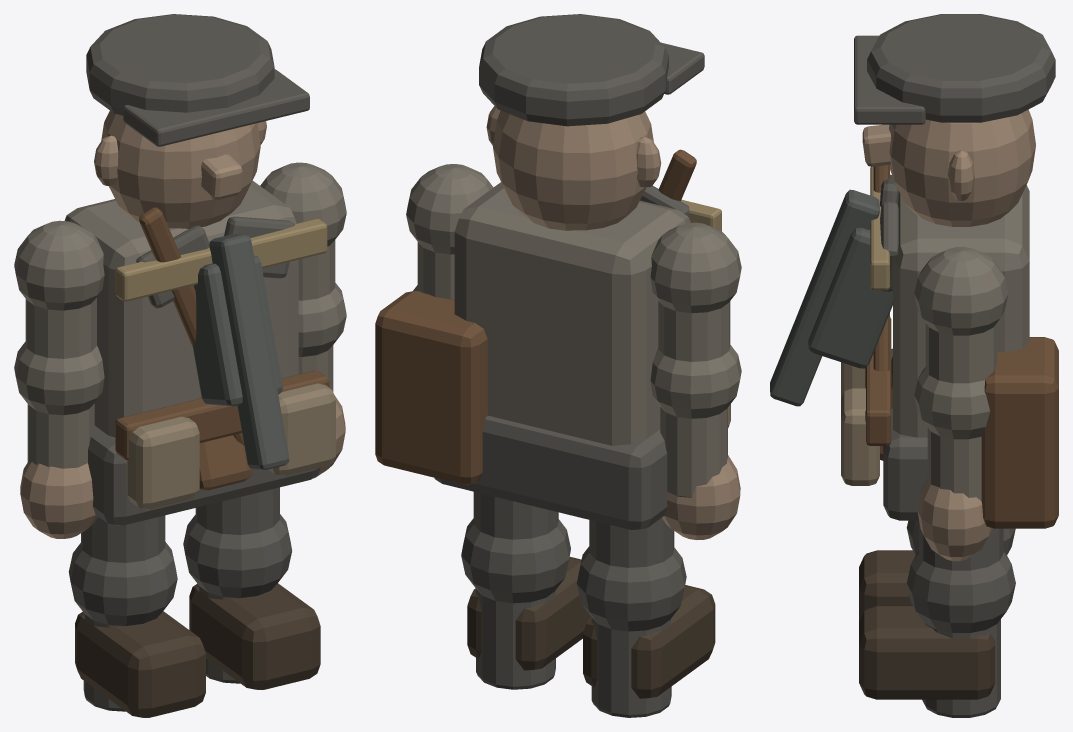
The model's file is Model_EnemyLeader.glb.
The picture shows the model from 3 angles, left to right: view 1: azimuth 30°, elevation 25°; view 2: azimuth 150°, elevation 25°; view 3: azimuth 270°, elevation 25°; orthographic projection.
Visible parts, largest first — view 1: Asset_EnemyLeader_BodyMesh, Arm_L_Mesh.005, Leg_L_Mesh.005, Leg_R_Mesh.005, Arm_R_Mesh.005; view 2: Asset_EnemyLeader_BodyMesh, Arm_L_Mesh.005, Leg_L_Mesh.005, Leg_R_Mesh.005, Arm_R_Mesh.005; view 3: Asset_EnemyLeader_BodyMesh, Arm_R_Mesh.005, Leg_R_Mesh.005, Leg_L_Mesh.005.
Boxes of the visible parts, x1,y1,x2,y2 form: Asset_EnemyLeader_BodyMesh: [64, 14, 335, 525]; Arm_L_Mesh.005: [14, 220, 104, 538]; Leg_L_Mesh.005: [68, 515, 205, 717]; Leg_R_Mesh.005: [183, 487, 320, 689]; Arm_R_Mesh.005: [260, 162, 346, 478]; Asset_EnemyLeader_BodyMesh: [375, 14, 730, 529]; Arm_L_Mesh.005: [650, 222, 741, 539]; Leg_L_Mesh.005: [576, 517, 715, 717]; Leg_R_Mesh.005: [461, 491, 590, 689]; Arm_R_Mesh.005: [406, 164, 493, 300]; Asset_EnemyLeader_BodyMesh: [770, 14, 1058, 528]; Arm_R_Mesh.005: [914, 247, 1008, 561]; Leg_R_Mesh.005: [859, 521, 1015, 717]; Leg_L_Mesh.005: [859, 520, 1015, 621].
Size of the model in its own units: 1.12 by 2.13 by 0.8883.
